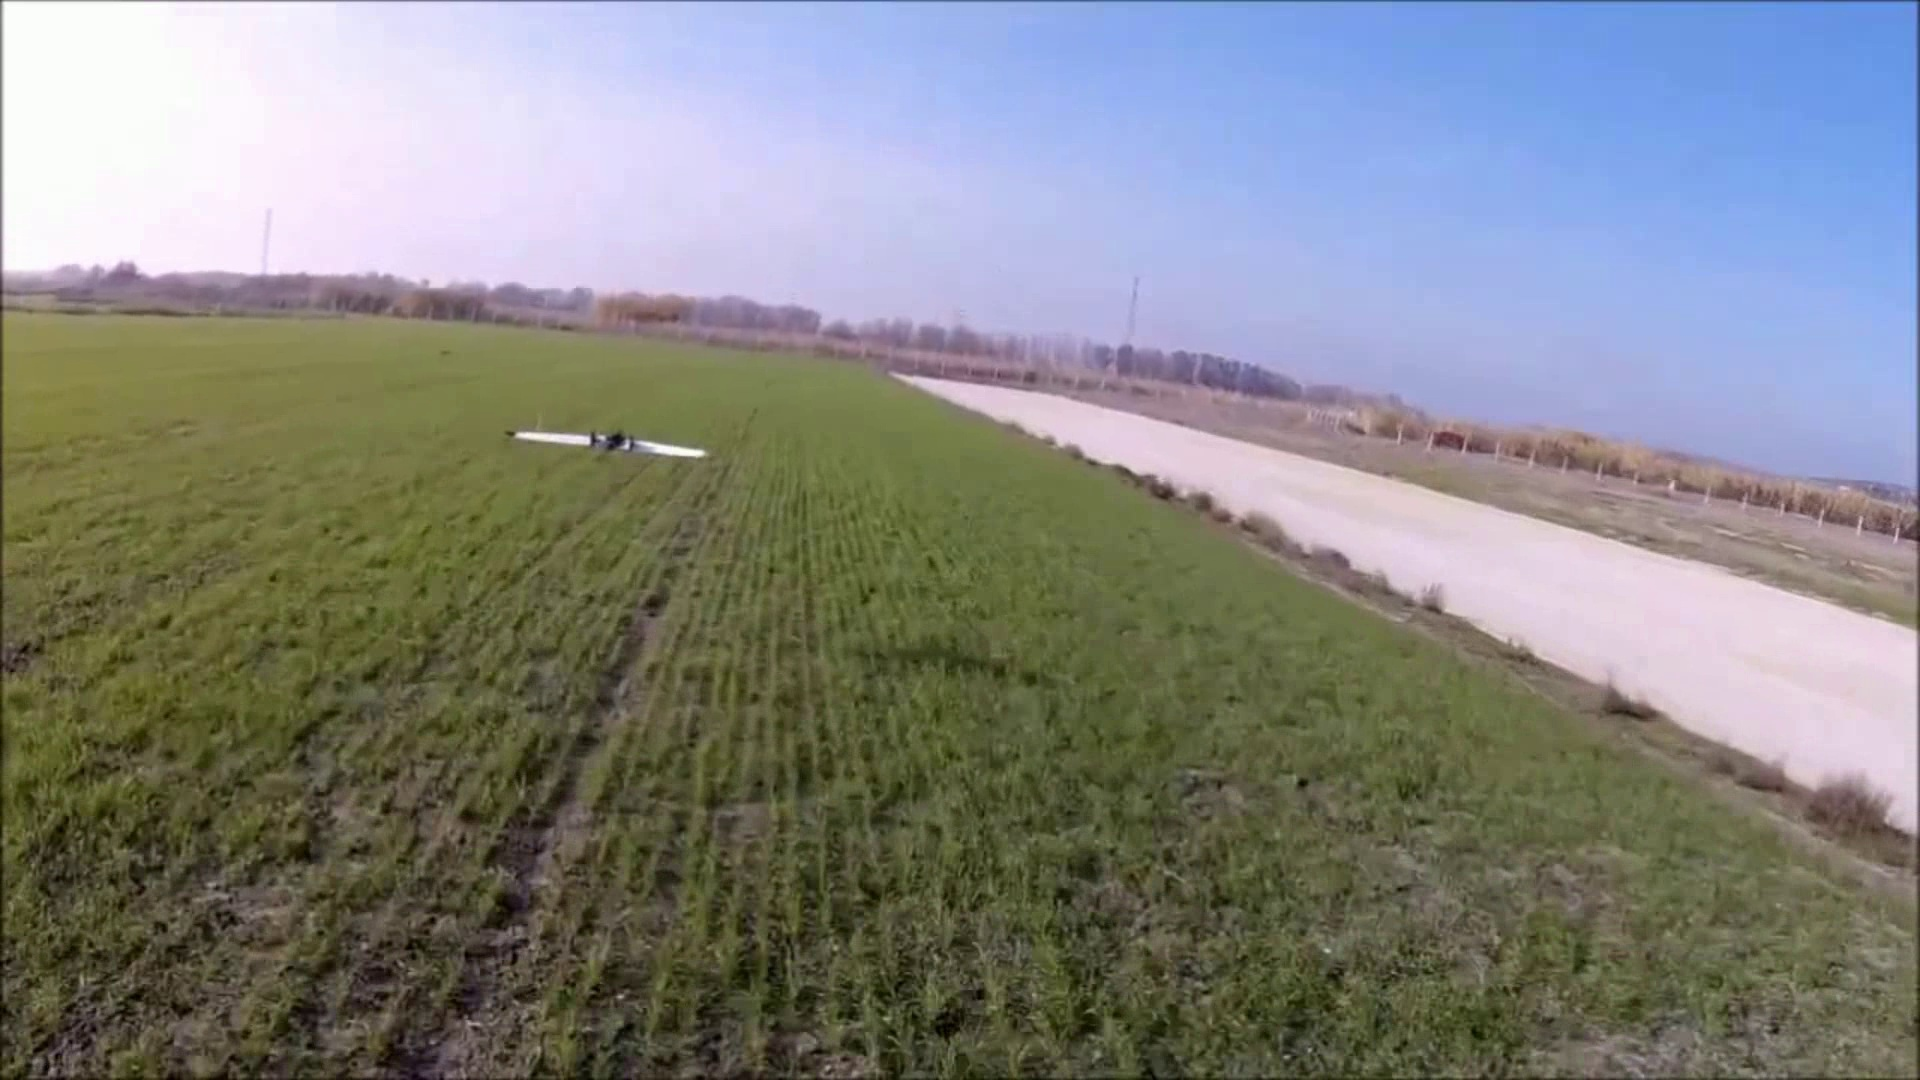airplane: (509, 426, 707, 460)
